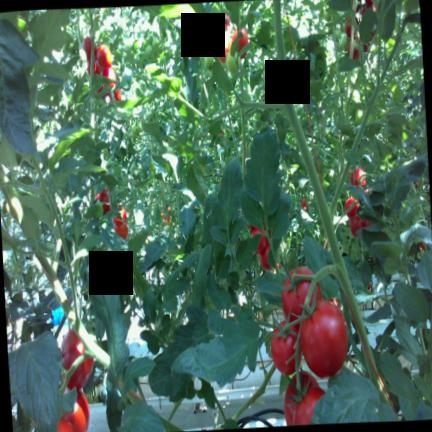6kp_peduncle: (308, 234, 355, 307), (61, 327, 110, 393)
6kp_petiole: (254, 64, 303, 133), (316, 175, 347, 244), (64, 279, 91, 345)
MainStem: (272, 0, 393, 406), (36, 256, 111, 369), (233, 416, 233, 417)
tomato: (301, 300, 347, 377), (282, 267, 322, 323), (284, 371, 324, 426), (61, 329, 93, 389), (293, 387, 324, 425), (271, 334, 297, 375), (251, 225, 271, 269), (61, 402, 87, 432), (77, 391, 89, 430), (114, 207, 128, 238), (96, 44, 111, 71), (95, 189, 111, 214), (113, 217, 128, 238), (83, 37, 97, 59), (238, 28, 248, 57), (259, 245, 271, 269), (350, 215, 363, 237), (345, 198, 359, 218), (350, 168, 366, 185), (103, 67, 116, 86), (87, 58, 100, 75), (58, 420, 75, 432), (218, 48, 228, 63), (114, 88, 121, 100)
